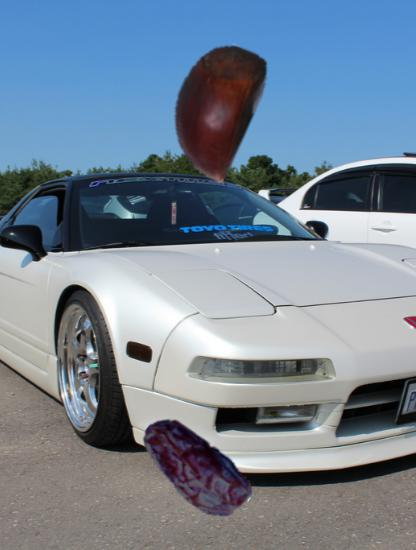Chestnut: (146, 40, 284, 178)
Dates: (132, 406, 258, 532)
